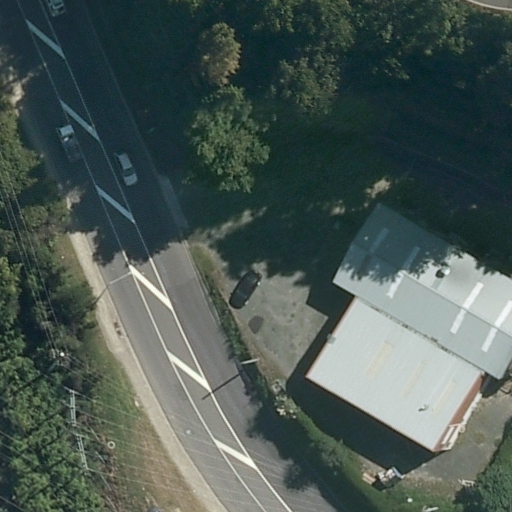DT: (72, 432, 97, 474), (60, 386, 83, 429), (47, 347, 78, 373)
